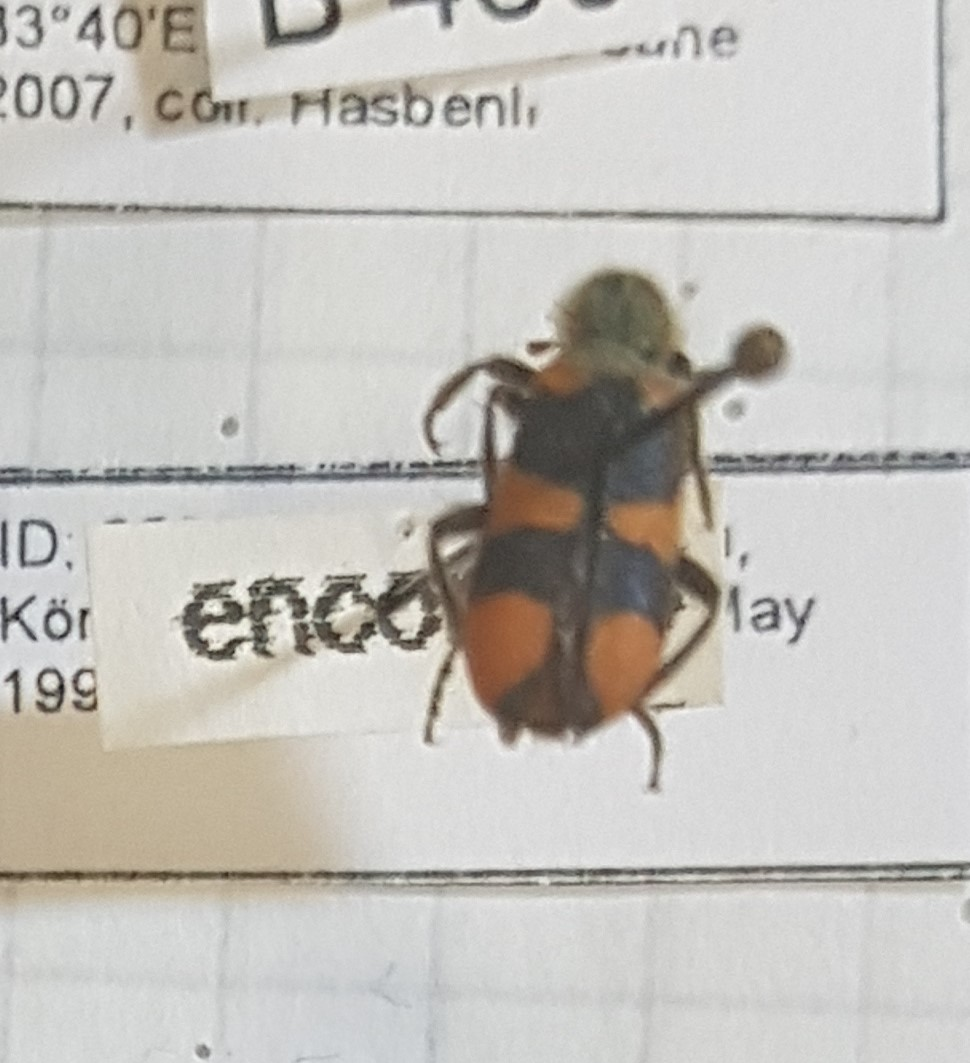trichodes_holtzi: (389, 252, 747, 803)
